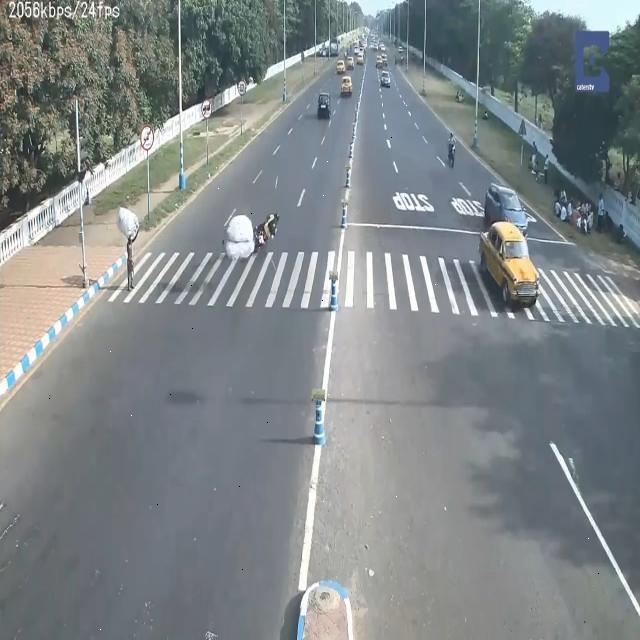accident: (251, 210, 281, 250)
